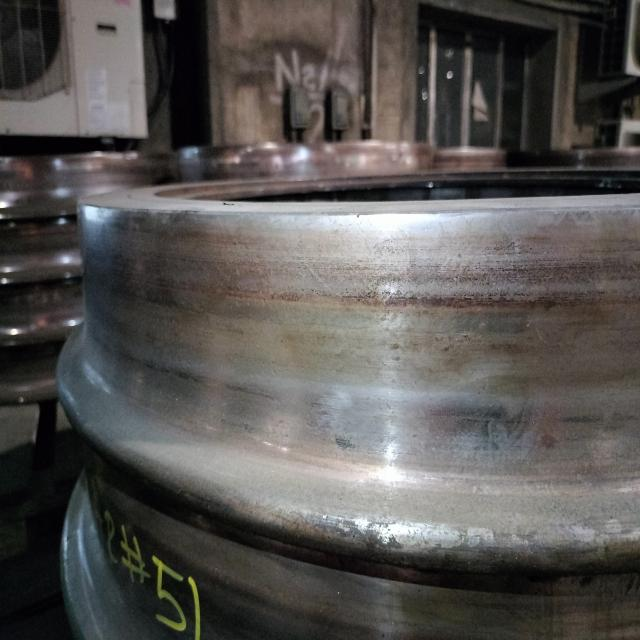flat: (390, 377, 562, 469)
